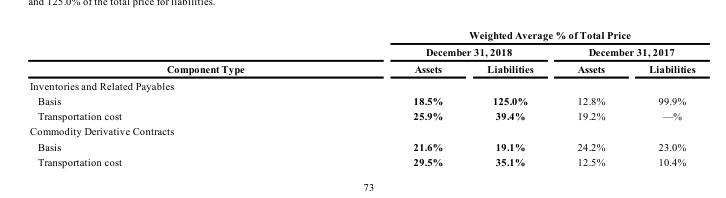table: (29, 28, 694, 166)
table column: (29, 28, 328, 166), (328, 28, 464, 166), (464, 28, 554, 166), (554, 28, 626, 166), (626, 28, 694, 166)
table column header: (29, 28, 694, 76)
table projected row header: (29, 76, 694, 92), (29, 123, 694, 138)
table row: (29, 59, 694, 76), (29, 43, 694, 59), (29, 76, 694, 92), (29, 107, 694, 123), (29, 28, 694, 43), (29, 92, 694, 107), (29, 123, 694, 138), (29, 138, 694, 153), (29, 153, 694, 166)
table spanning cell: (29, 28, 328, 76), (328, 28, 694, 43), (328, 43, 554, 59), (554, 43, 694, 59)
